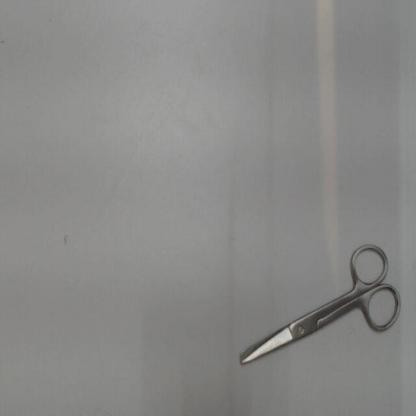Dressing Scissors: (231, 233, 408, 373)
